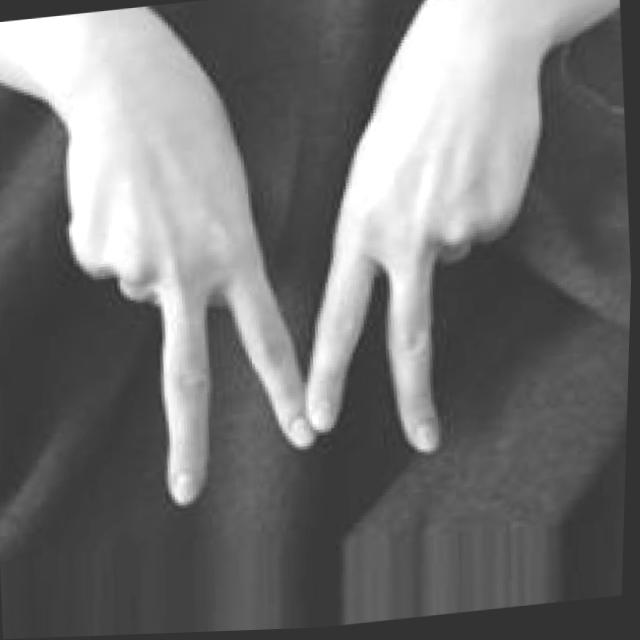M: (47, 60, 572, 523)
